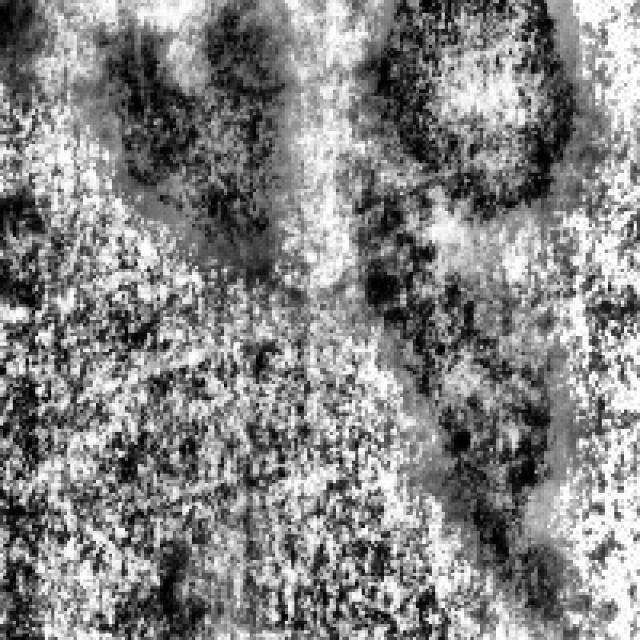Scratches: (362, 268, 566, 612), (80, 0, 291, 250), (368, 0, 579, 221)
